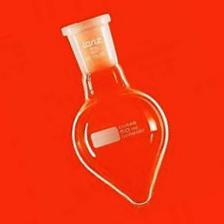Pear shaped flask: (57, 14, 171, 210)
